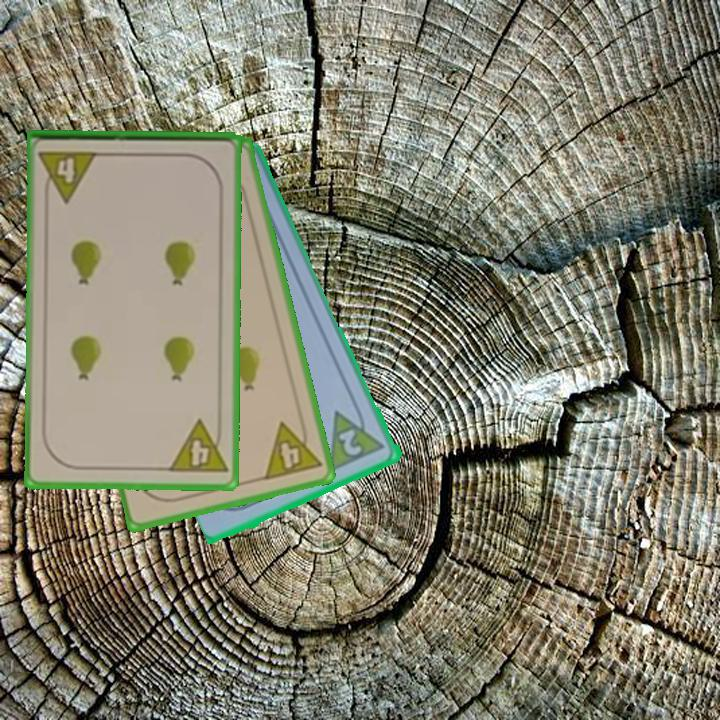2p: (335, 425, 366, 460)
4p: (260, 414, 324, 483), (165, 417, 230, 477), (36, 147, 101, 205)
